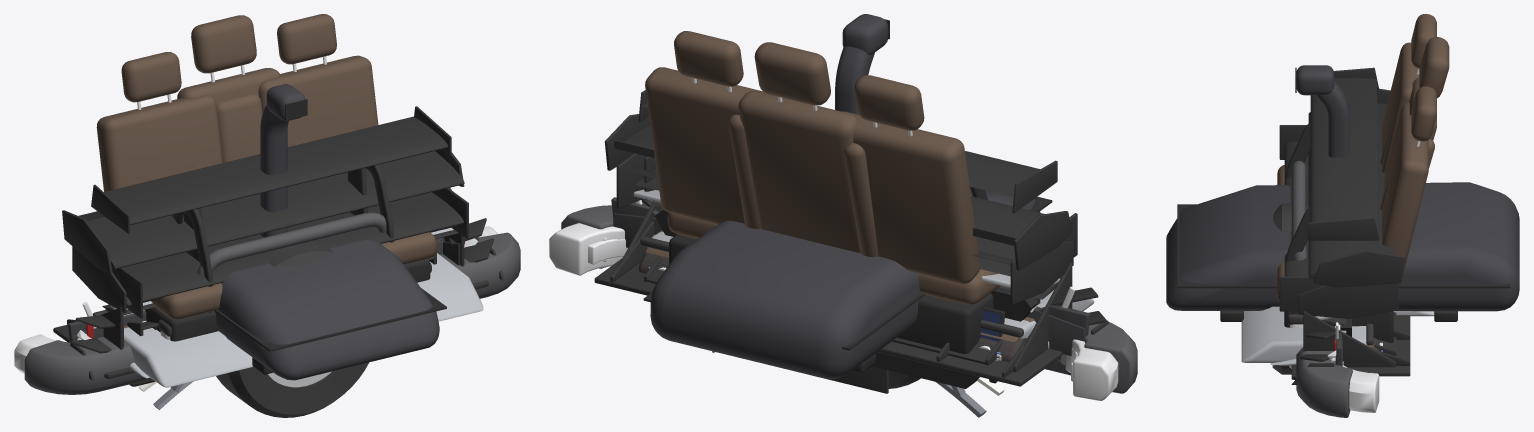
Rendered from car_parts.q.glb.
3 renders of one model, left to right at view 1: azimuth 30°, elevation 25°; view 2: azimuth 150°, elevation 25°; view 3: azimuth 270°, elevation 25°, orthographic. The views are drawn at different scales.
Parts seen in each view (by area): view 1: part_roof_box_shell, part_seat_rear_back, part_spoiler_swan_wing, part_spoiler_tall_wing, part_spoiler_whale_tray, part_spoiler_wing_wing, part_bumper_offroad_front_bar, part_spare_wheel_tire, part_seat_rear_headrests, part_seat_front_headrest, part_bullbar_tubes, part_seat_rear_cushion (+15 smaller); view 2: part_roof_box_shell, part_seat_rear_back, part_seat_front_back, part_seat_rear_headrests, part_bumper_american_bar, part_seat_front_back_bolsters, part_seat_rear_base, part_seat_front_headrest, part_diffuser_race_plate, part_spoiler_biplane_endplates, part_spoiler_swan_endplates, part_bumper_offroad_front_bar (+23 smaller); view 3: part_roof_box_shell, part_spoiler_tall_wing, part_seat_rear_back, part_spoiler_whale_tray, part_spoiler_biplane_endplates, part_spoiler_swan_endplates, part_bumper_offroad_front_bar, part_spoiler_swan_wing, part_seat_rear_headrests, part_diffuser_blade_sides, part_spoiler_tall_endplates, part_snorkel_pipe (+13 smaller).
Boxes of the visible parts, bbox=[...] form: part_roof_box_shell: bbox=[215, 240, 439, 380]; part_seat_rear_back: bbox=[96, 55, 378, 191]; part_spoiler_swan_wing: bbox=[87, 151, 464, 269]; part_spoiler_tall_wing: bbox=[104, 116, 448, 225]; part_spoiler_whale_tray: bbox=[124, 253, 483, 387]; part_spoiler_wing_wing: bbox=[123, 192, 463, 301]; part_bumper_offroad_front_bar: bbox=[24, 232, 520, 394]; part_spare_wheel_tire: bbox=[216, 241, 368, 417]; part_seat_rear_headrests: bbox=[121, 14, 336, 102]; part_seat_front_headrest: bbox=[191, 15, 256, 73]; part_bullbar_tubes: bbox=[197, 212, 386, 276]; part_seat_rear_cushion: bbox=[151, 232, 436, 319]; part_roof_box_shell: bbox=[650, 188, 1040, 379]; part_seat_rear_back: bbox=[645, 67, 980, 283]; part_seat_front_back: bbox=[738, 91, 860, 252]; part_seat_rear_headrests: bbox=[674, 31, 924, 130]; part_bumper_american_bar: bbox=[549, 223, 1118, 400]; part_seat_front_back_bolsters: bbox=[728, 114, 878, 256]; part_seat_rear_base: bbox=[669, 234, 993, 353]; part_seat_front_headrest: bbox=[754, 42, 830, 105]; part_diffuser_race_plate: bbox=[594, 258, 1062, 386]; part_spoiler_biplane_endplates: bbox=[616, 153, 1073, 304]; part_spoiler_swan_endplates: bbox=[604, 114, 1072, 270]; part_bumper_offroad_front_bar: bbox=[561, 205, 1137, 393]; part_roof_box_shell: bbox=[1166, 182, 1519, 311]; part_spoiler_tall_wing: bbox=[1310, 78, 1376, 226]; part_seat_rear_back: bbox=[1382, 42, 1428, 278]; part_spoiler_whale_tray: bbox=[1241, 306, 1368, 362]; part_spoiler_biplane_endplates: bbox=[1298, 283, 1398, 318]; part_spoiler_swan_endplates: bbox=[1313, 88, 1405, 287]; part_bumper_offroad_front_bar: bbox=[1296, 347, 1352, 417]; part_spoiler_swan_wing: bbox=[1308, 103, 1392, 278]; part_seat_rear_headrests: bbox=[1411, 14, 1436, 141]; part_diffuser_blade_sides: bbox=[1303, 311, 1395, 367]; part_spoiler_tall_endplates: bbox=[1308, 67, 1379, 240]; part_snorkel_pipe: bbox=[1316, 81, 1349, 157].
Bounding box in the file's own units: 2.27 × 1.48 × 1.49.
